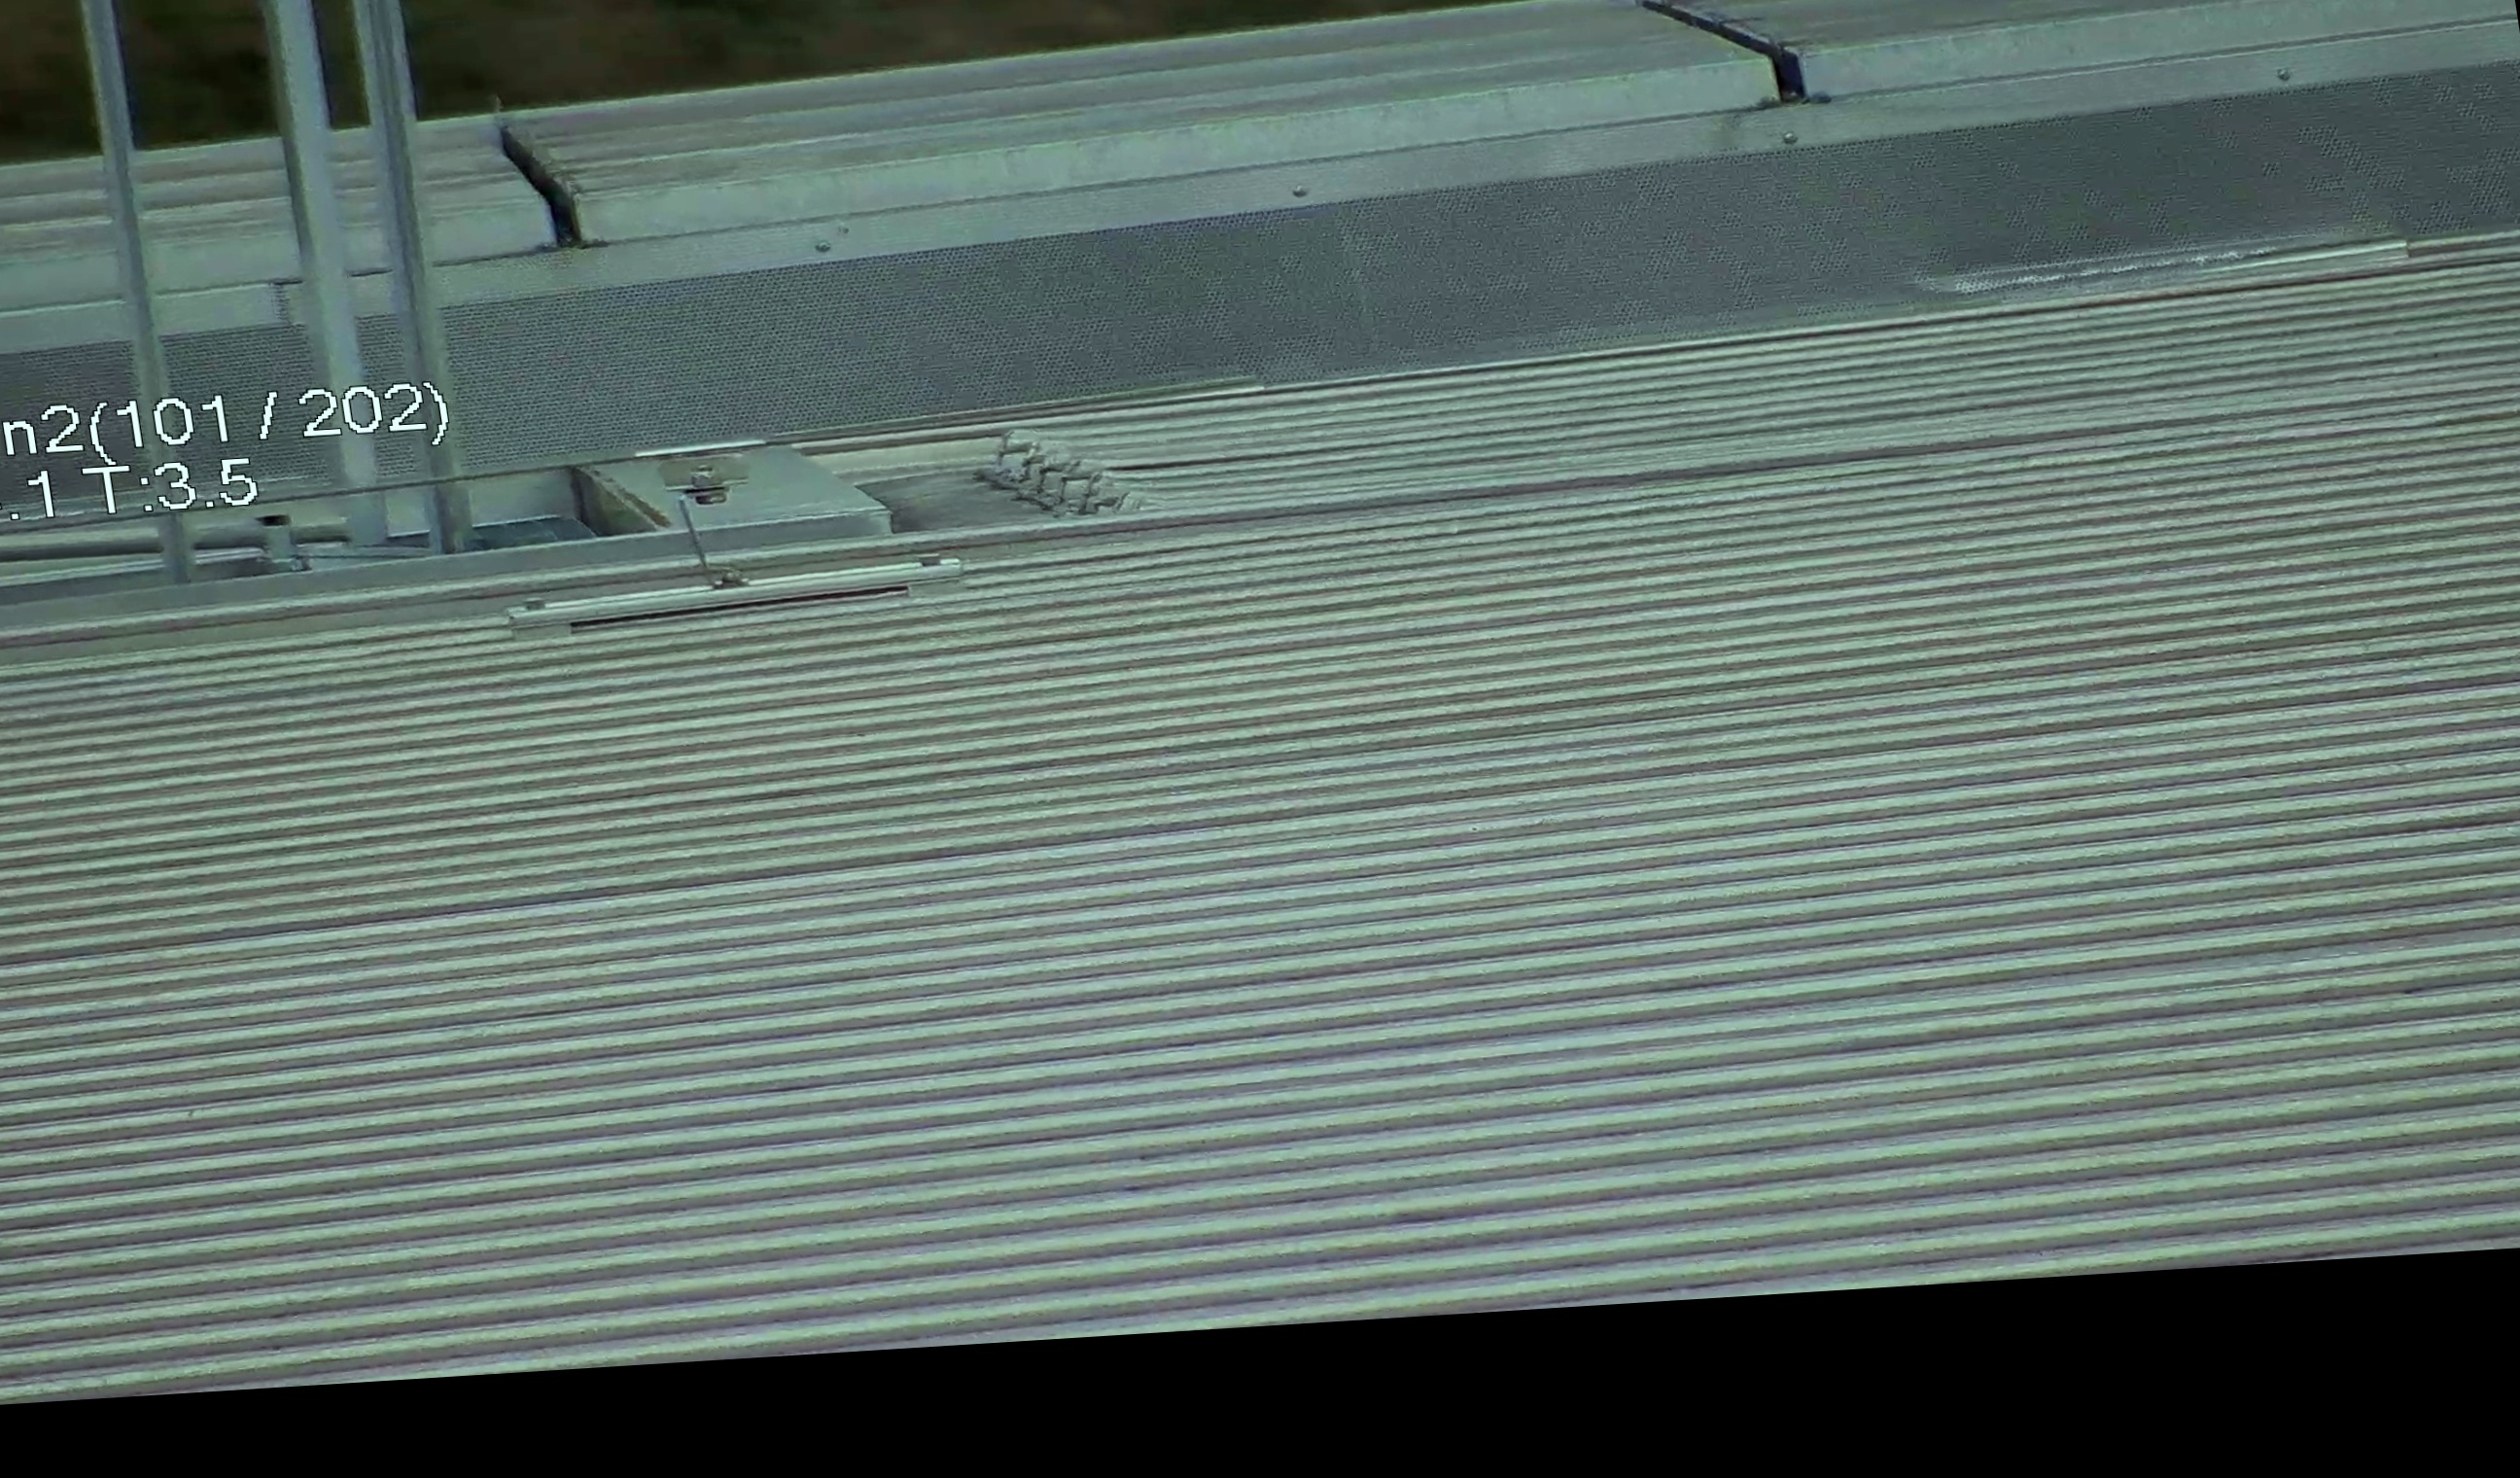Other: (448, 97, 605, 264)
